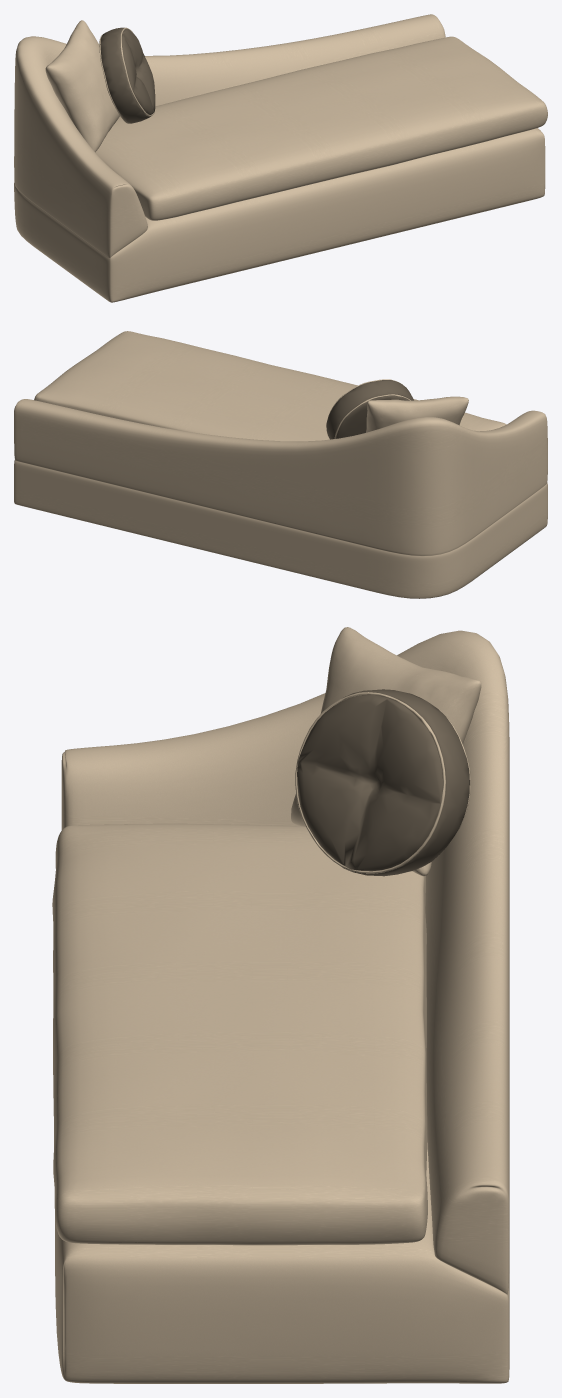
File: Bench.glb
3 renders of one model, top to bottom at view 1: azimuth 30°, elevation 25°; view 2: azimuth 150°, elevation 25°; view 3: azimuth 270°, elevation 25°, orthographic. The views are drawn at different scales.
Visible parts, largest first — view 1: export_sample_bedroom_Bench; view 2: export_sample_bedroom_Bench; view 3: export_sample_bedroom_Bench.
Boxes of the visible parts, left/top/right/bottom form: export_sample_bedroom_Bench: left=14, top=14, right=547, bottom=302; export_sample_bedroom_Bench: left=14, top=331, right=547, bottom=598; export_sample_bedroom_Bench: left=52, top=627, right=509, bottom=1383.
Bounding box in the file's own units: 1.77 × 0.7205 × 0.8161.
Materials: 3 (3 with a texture image).
